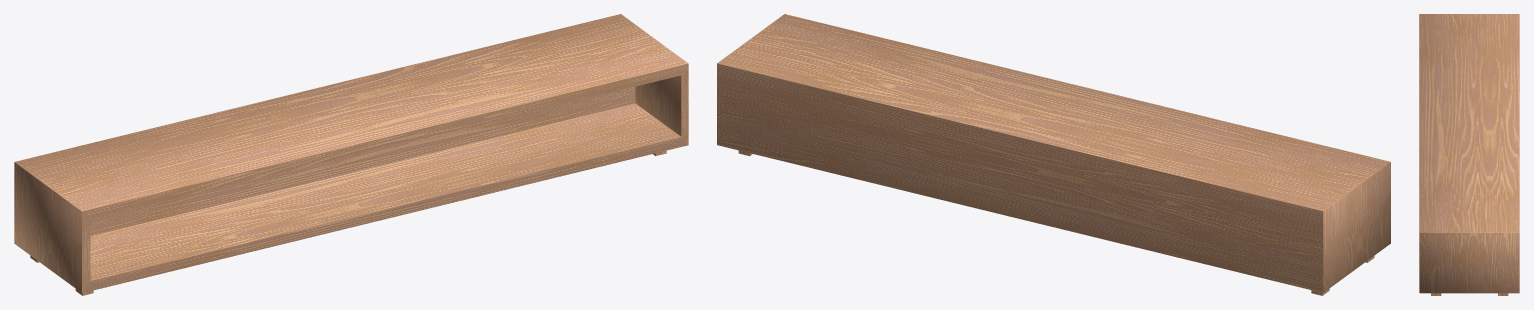
File: tv_cabinet.glb
3 renders of one model, left to right at view 1: azimuth 30°, elevation 25°; view 2: azimuth 150°, elevation 25°; view 3: azimuth 270°, elevation 25°, orthographic. The views are drawn at different scales.
Visible parts, largest first — view 1: Tv Cabinet; view 2: Tv Cabinet; view 3: Tv Cabinet.
Boxes of the visible parts, <box> form: Tv Cabinet: <box>14,14,688,295</box>; Tv Cabinet: <box>717,14,1390,295</box>; Tv Cabinet: <box>1419,14,1519,295</box>.
Bounding box in the file's own units: 19.64 × 2.86 × 3.79.
Materials: 1 (1 with a texture image).
